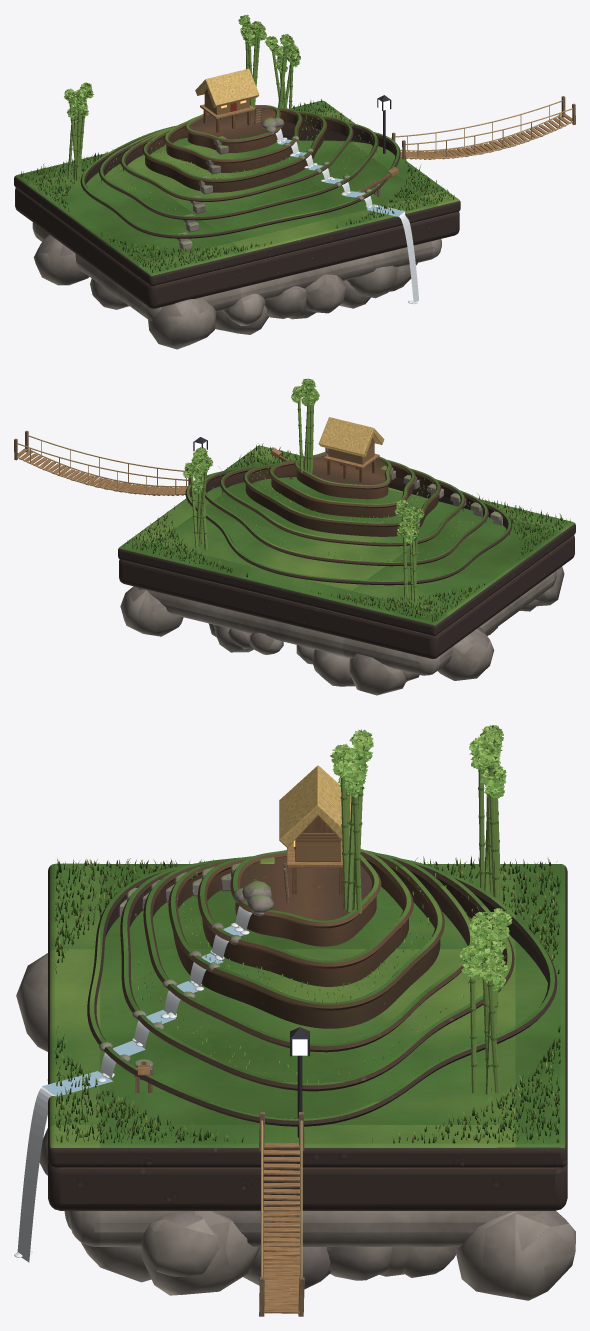
The model's file is unlock-terraces-xuan.glb.
3 renders of one model, top to bottom at view 1: azimuth 30°, elevation 25°; view 2: azimuth 150°, elevation 25°; view 3: azimuth 270°, elevation 25°, orthographic. The views are drawn at different scales.
Visible parts, largest first — view 1: unlock-terraces-static, grass-left, fall-edge, water-surface-terraces; view 2: unlock-terraces-static, grass-left; view 3: unlock-terraces-static, grass-left, fall-edge, water-surface-terraces.
Part boxes in pixels (x1,y1,x2,y2): unlock-terraces-static: [14, 14, 575, 349]; grass-left: [20, 99, 454, 272]; fall-edge: [399, 211, 418, 304]; water-surface-terraces: [278, 139, 404, 216]; unlock-terraces-static: [14, 378, 575, 695]; grass-left: [123, 443, 570, 621]; unlock-terraces-static: [14, 725, 575, 1316]; grass-left: [51, 856, 561, 1143]; fall-edge: [17, 1087, 55, 1262]; water-surface-terraces: [42, 926, 243, 1096].
Bounding box in the file's own units: 10.36 × 5.28 × 5.41.
Materials: 40 (21 with a texture image).
